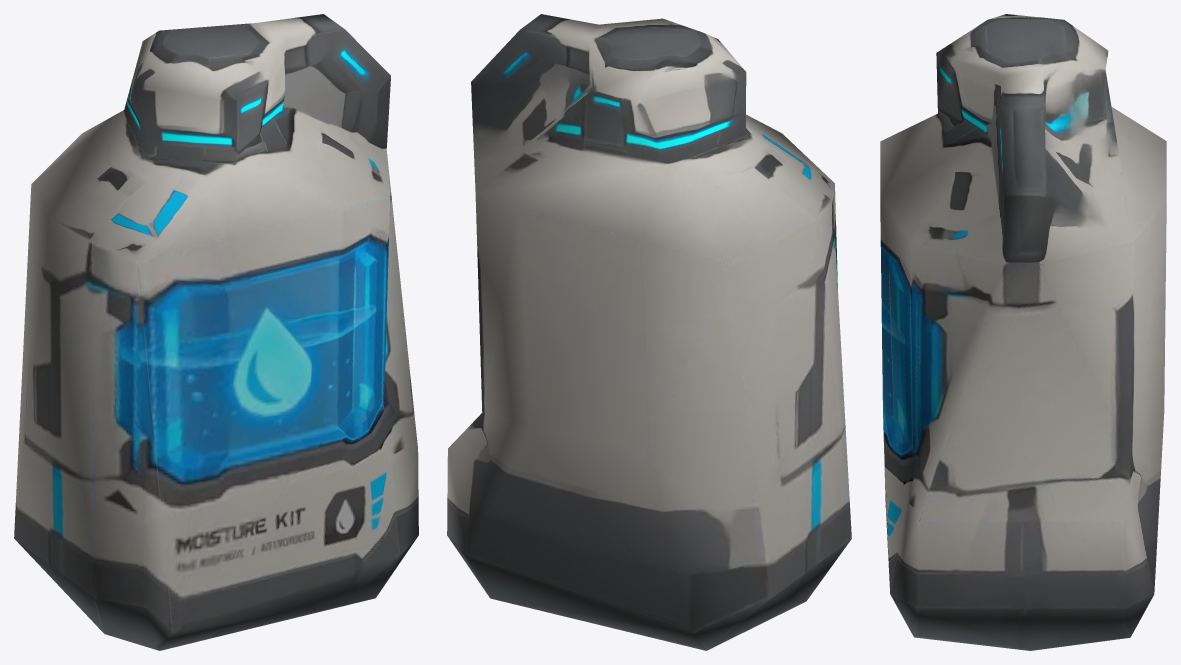
File: kit-drink.glb
3 renders of one model, left to right at view 1: azimuth 30°, elevation 25°; view 2: azimuth 150°, elevation 25°; view 3: azimuth 270°, elevation 25°, orthographic.
Visible parts, largest first — view 1: geometry_0; view 2: geometry_0; view 3: geometry_0.
Part boxes in pixels (x1,y1,x2,y2): geometry_0: (14, 14, 418, 650); geometry_0: (447, 14, 851, 650); geometry_0: (880, 14, 1166, 650).
Size of the model in its own units: 0.607 by 0.9526 by 0.4507.
Materials: 1 (1 with a texture image).
